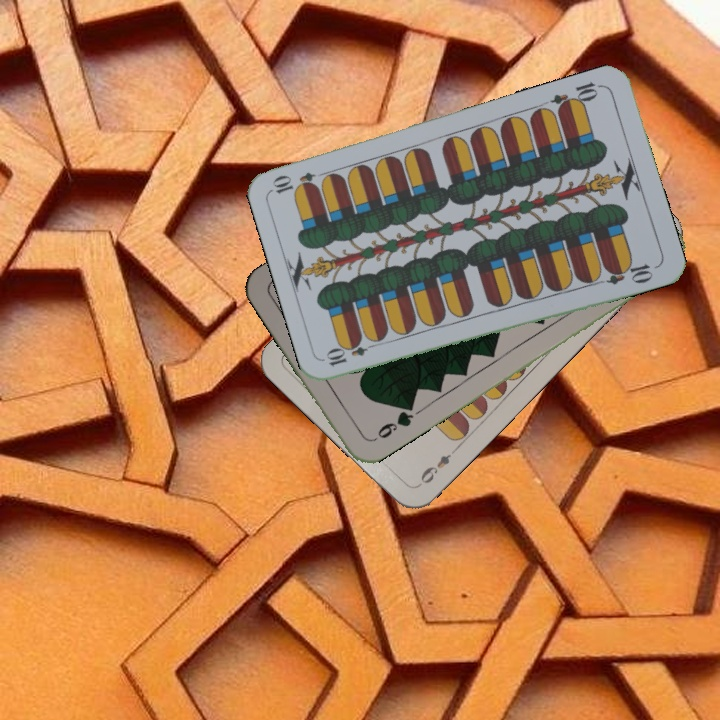E10: (547, 78, 605, 115), (322, 337, 381, 369)
E9: (414, 449, 454, 490)
G9: (367, 403, 417, 445)
